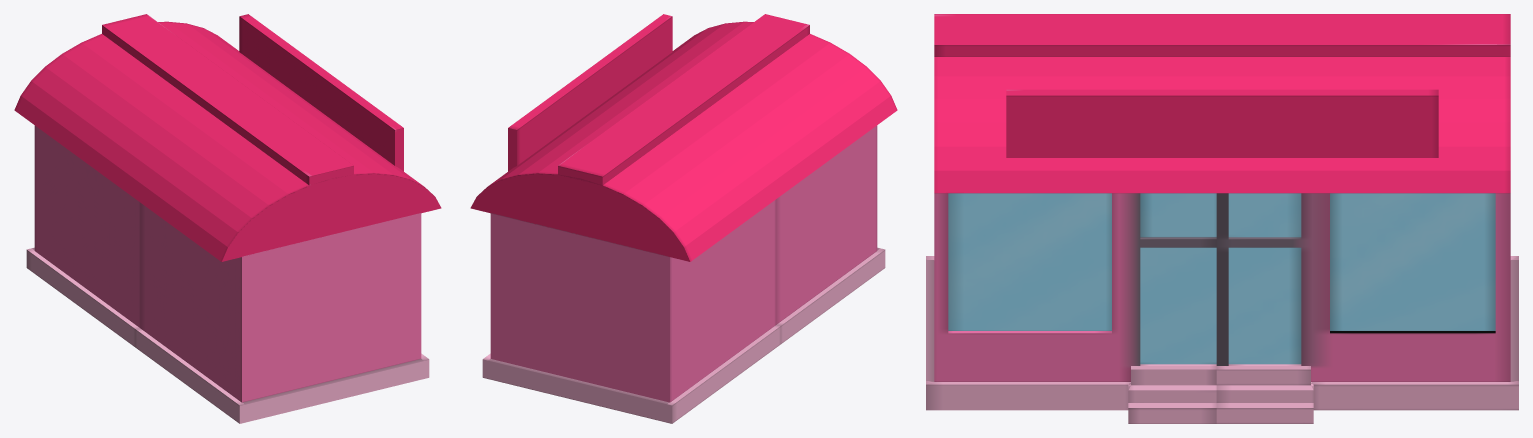
Rendered from PinkStore.fbx.
3 views of the same model, side by side, from view 1: azimuth 30°, elevation 25°; view 2: azimuth 150°, elevation 25°; view 3: azimuth 270°, elevation 25° (orthographic). The views are drawn at different scales.
Visible parts, largest first — view 1: Cube.001; view 2: Cube.001; view 3: Cube.001.
Part boxes in pixels (bbox=[...]): Cube.001: bbox=[14, 14, 441, 423]; Cube.001: bbox=[470, 14, 897, 423]; Cube.001: bbox=[926, 14, 1518, 423].
Bounding box in the file's own units: 1002 × 971 × 1645.
